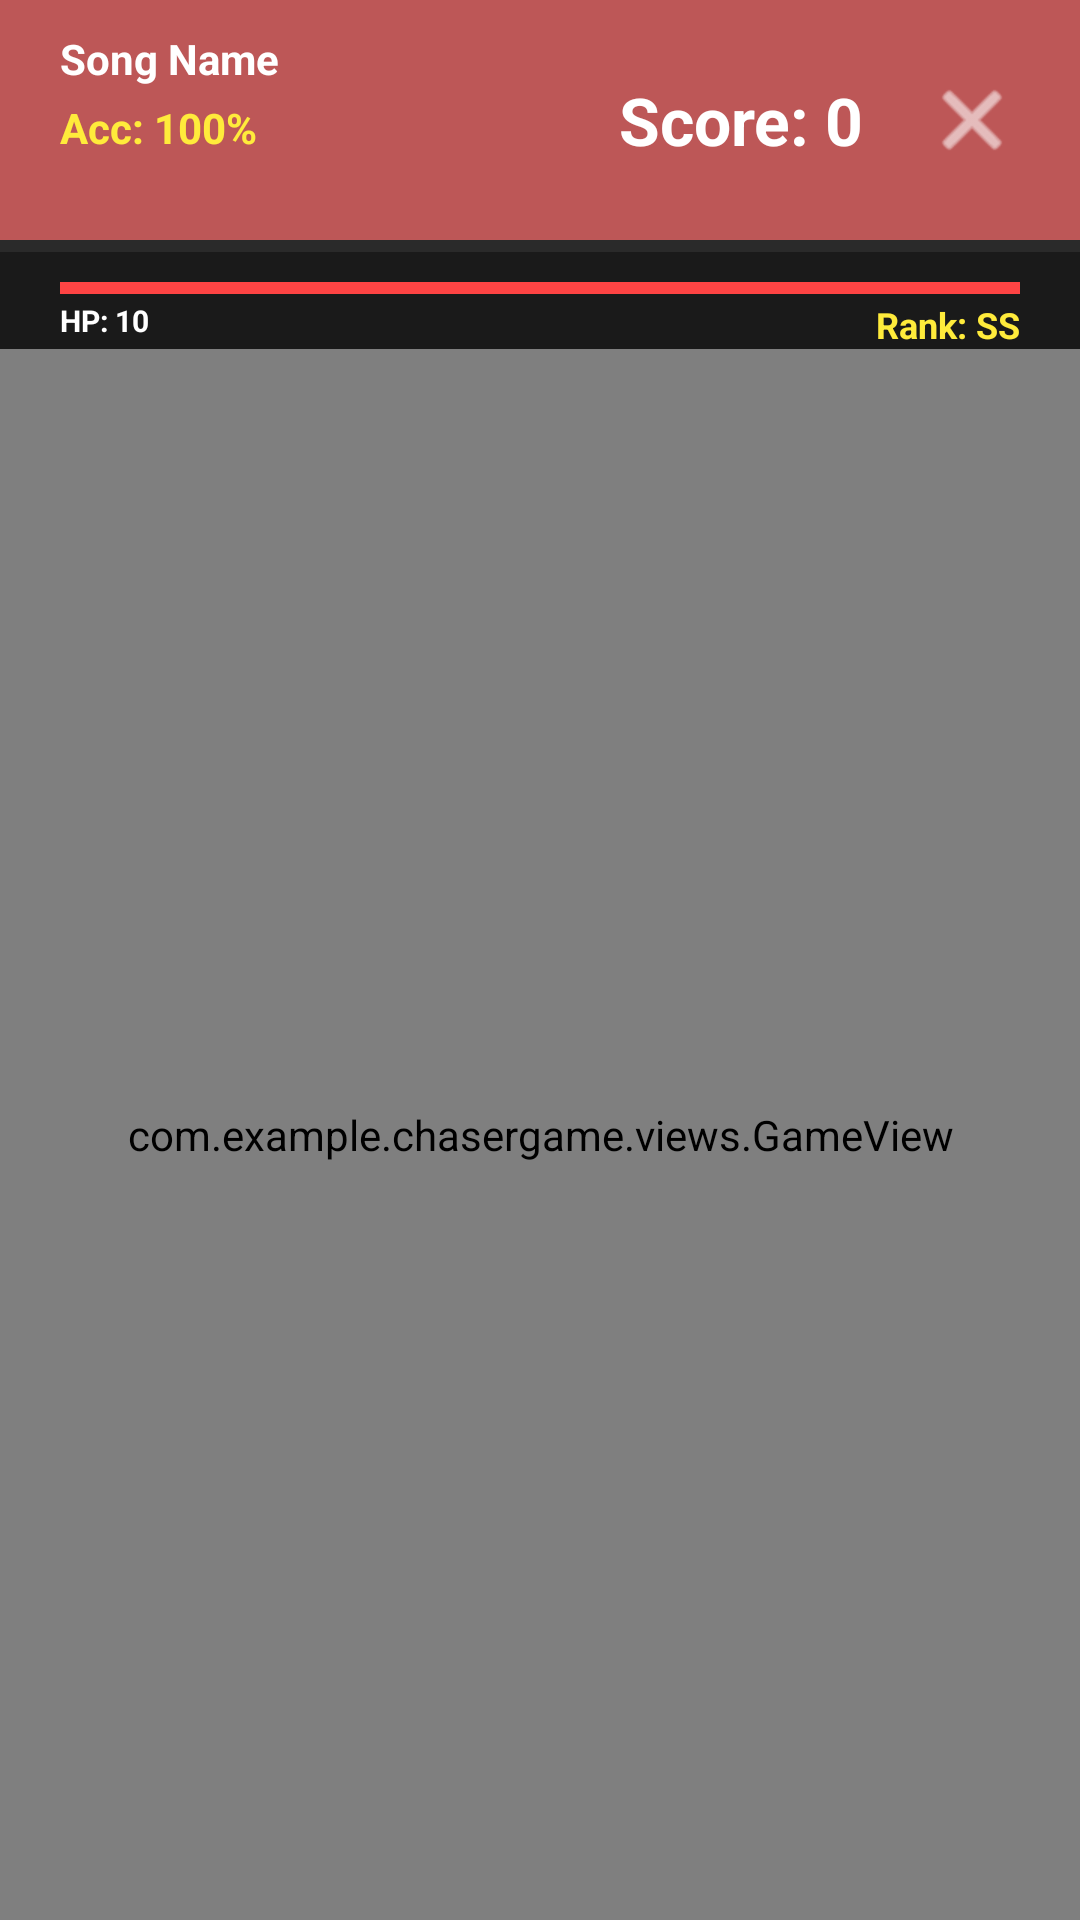

Point at icon controls on the screen. Image size 1080x1920, points as (x=x, y=y).
Exit Game: (x=972, y=120)
